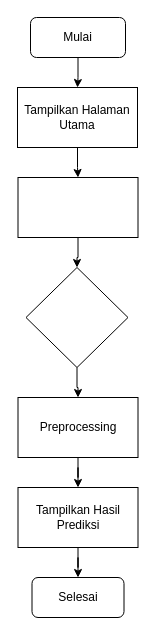
This 156x635 diagram has some shape labels left out. The shapes that lost their labels are listed below. From the top down, each one's box as (x1, y1, x2, y2) in pixels, then its label:
(17, 176, 138, 238): Isi Form
(25, 266, 128, 368): Data Valid?
